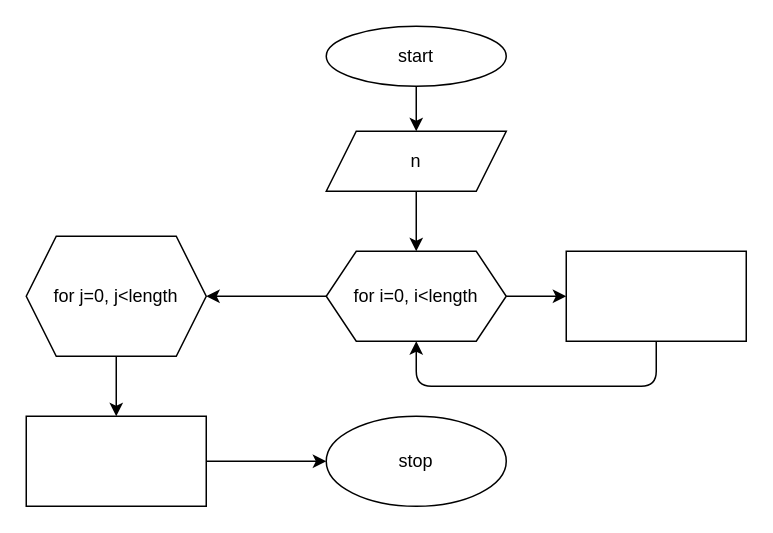
Some shapes in this 773 by 533 pixel diagram are drawn without their labels. Each missing label, with the centre of its shape:
"array[i]=random(1,9) i++" goes at point (655, 295).
"write array[j]" goes at point (115, 460).
